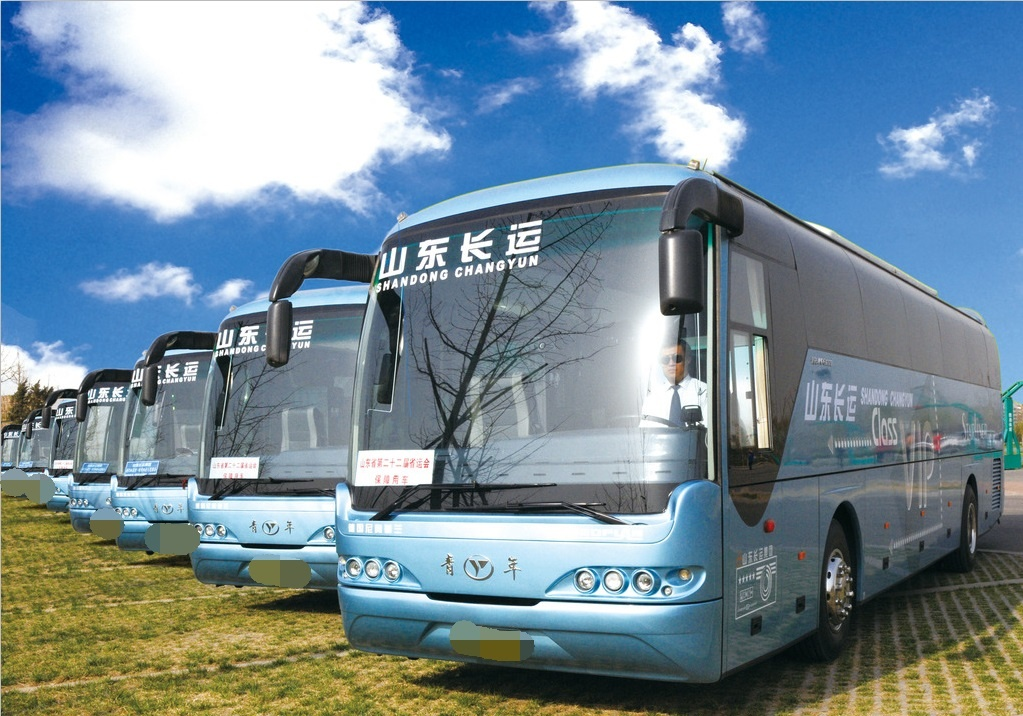bus: (362, 182, 1010, 679), (193, 293, 378, 583), (109, 337, 243, 561), (61, 377, 131, 538)
